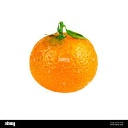orange: (26, 18, 99, 95)
